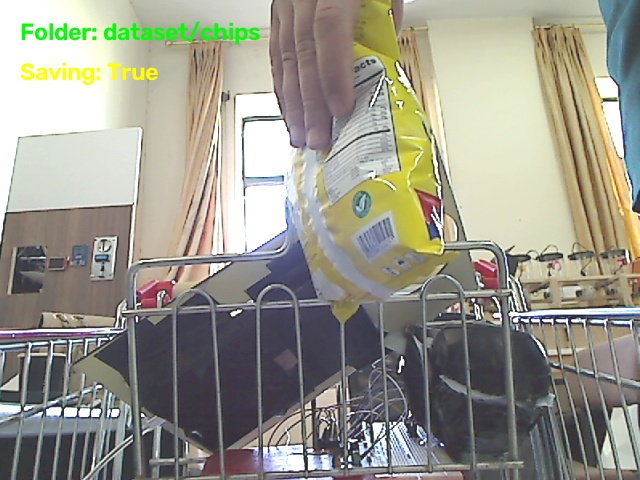chips: (286, 0, 453, 320)
